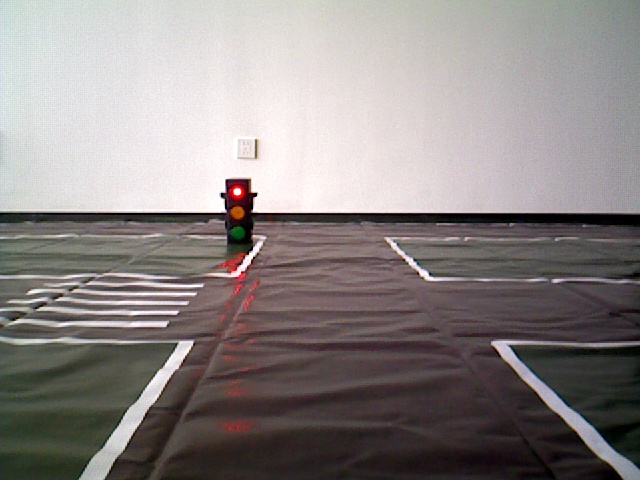red: (224, 181, 249, 247)
